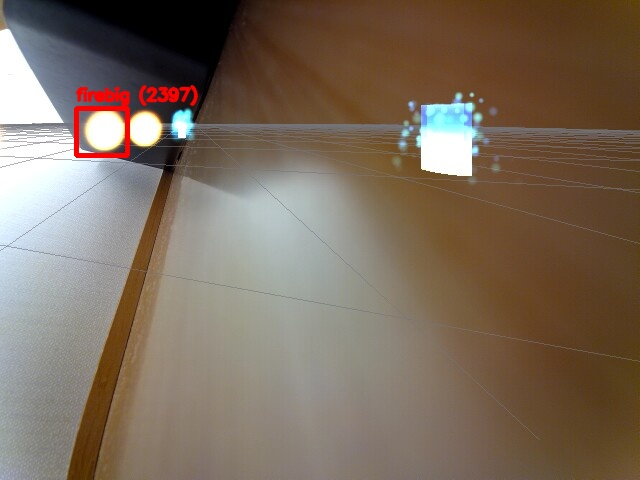firebig: (76, 108, 127, 155)
